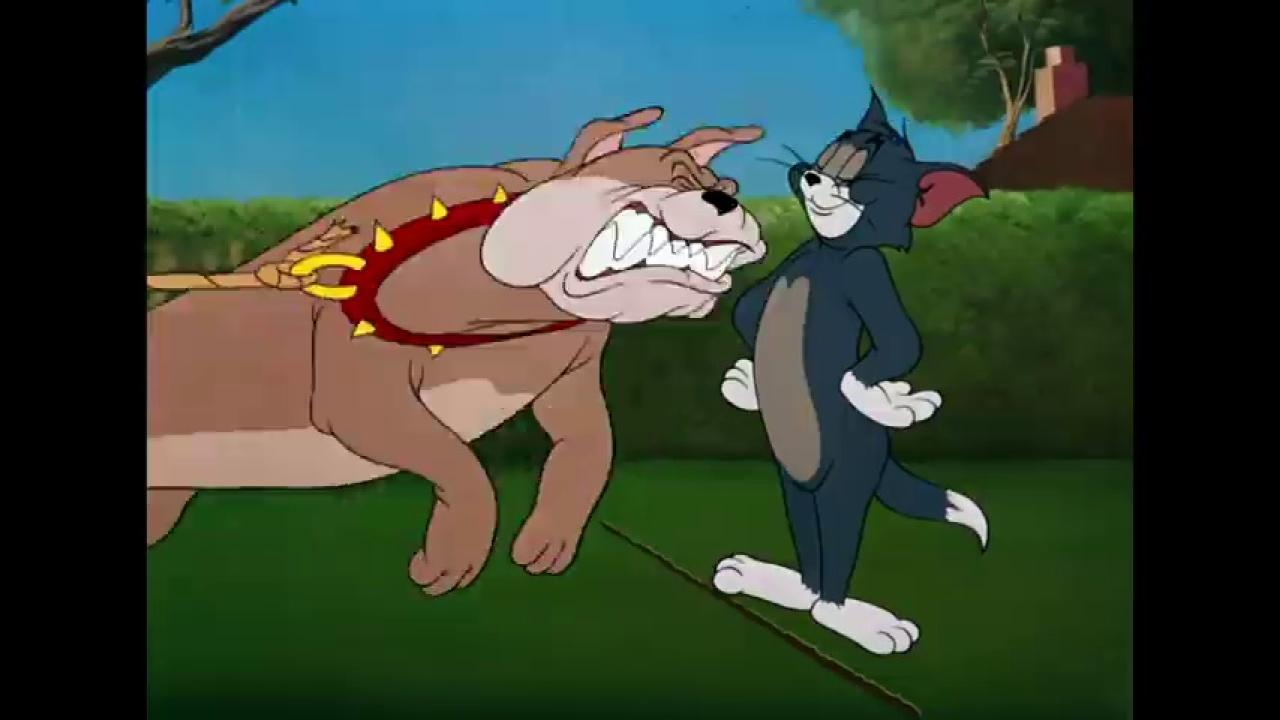Tom: (712, 84, 994, 660)
